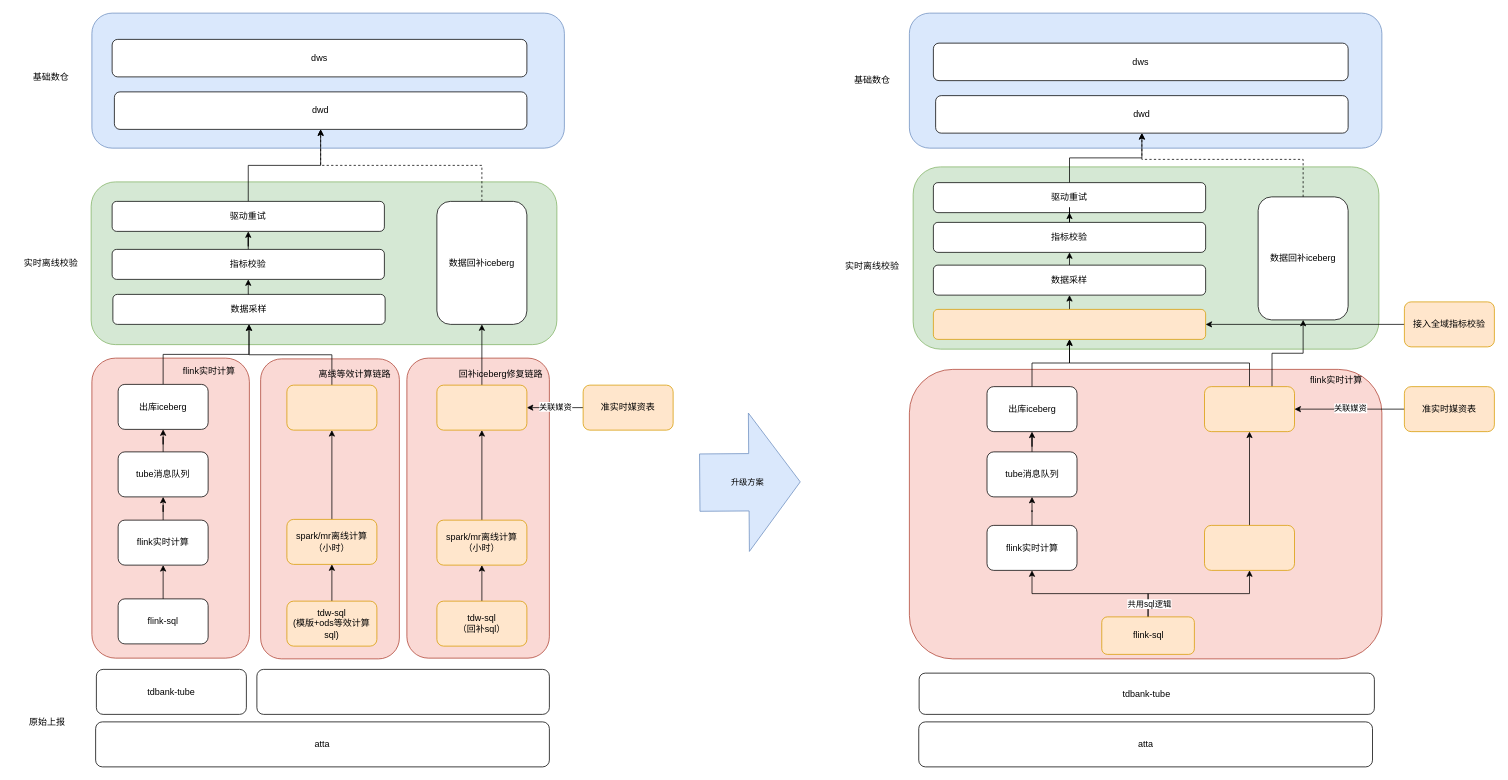
The diagram is 1508 pixels wide and 780 high, and some of its shapes have lost their labels. Each missing label, with the box of its shape:
dwd回补数据表: (436, 384, 527, 430)
flink离线计算 （小时）: (1204, 525, 1294, 570)
ods等效结果表: (286, 384, 377, 430)
tdw: (256, 669, 549, 714)
出库tdw: (1204, 386, 1294, 432)
错误驱动（根据错误信息驱动对应小时数据校验，可避开23点分区）: (933, 309, 1206, 339)
